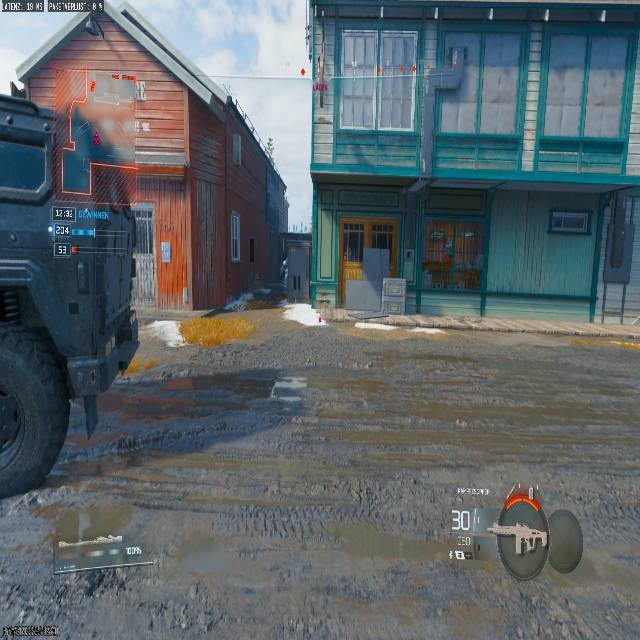player: (280, 258, 288, 285)
